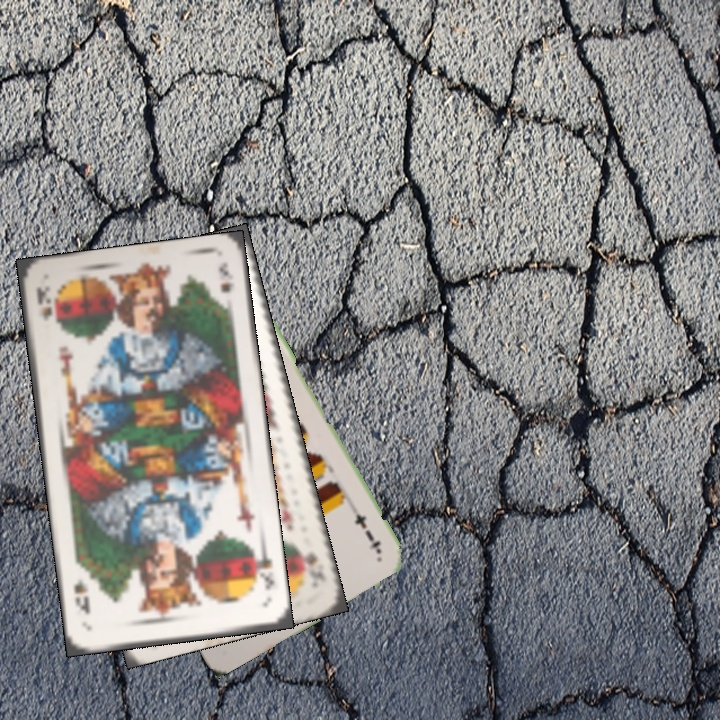E7: (350, 509, 384, 557)
SK: (248, 545, 277, 592), (295, 542, 326, 579), (32, 282, 55, 322)
